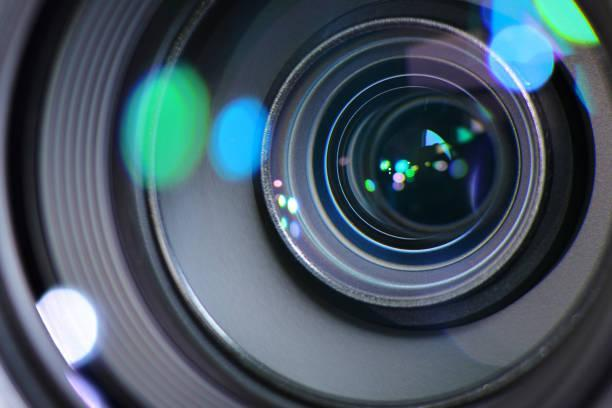camera: (0, 1, 612, 408)
